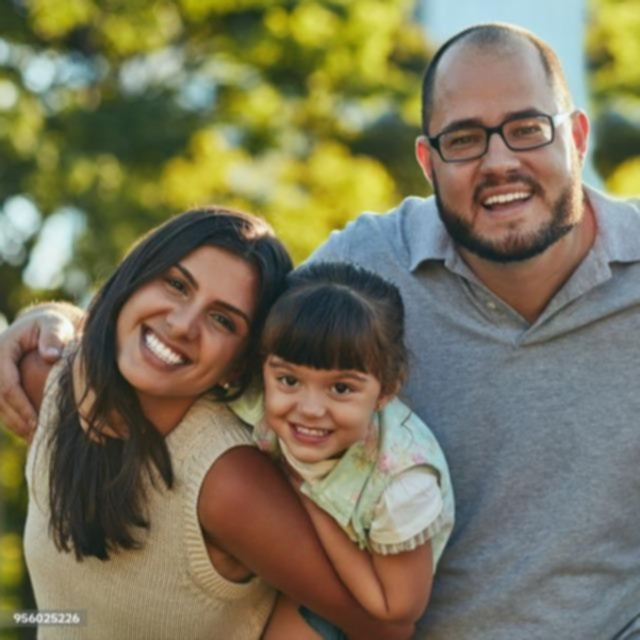Sin_Casco_Mascarrilla: (420, 22, 588, 258), (102, 204, 290, 393), (265, 266, 405, 459)
